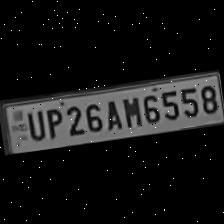2: (62, 102, 85, 138)
5: (158, 86, 181, 120), (177, 83, 199, 118)
6: (82, 99, 104, 134), (138, 90, 160, 124)
8: (196, 80, 220, 114)
A: (100, 96, 123, 132)
M: (119, 93, 141, 128)
P: (43, 104, 65, 140)
U: (23, 106, 45, 142)
